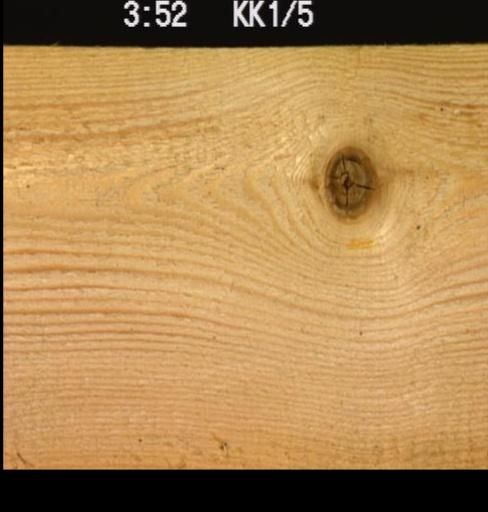sound_knot: (320, 143, 377, 221)
